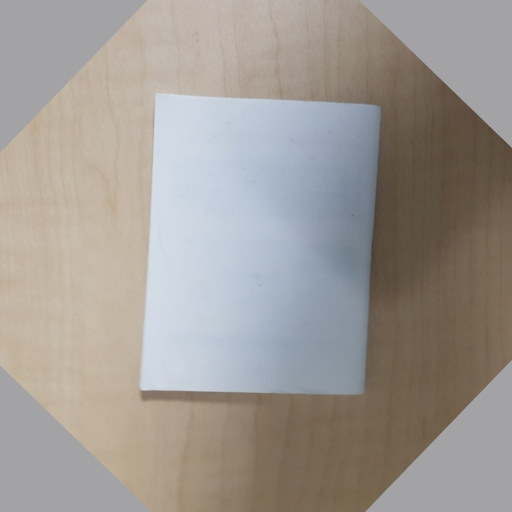Paper_2: (132, 78, 386, 431)
